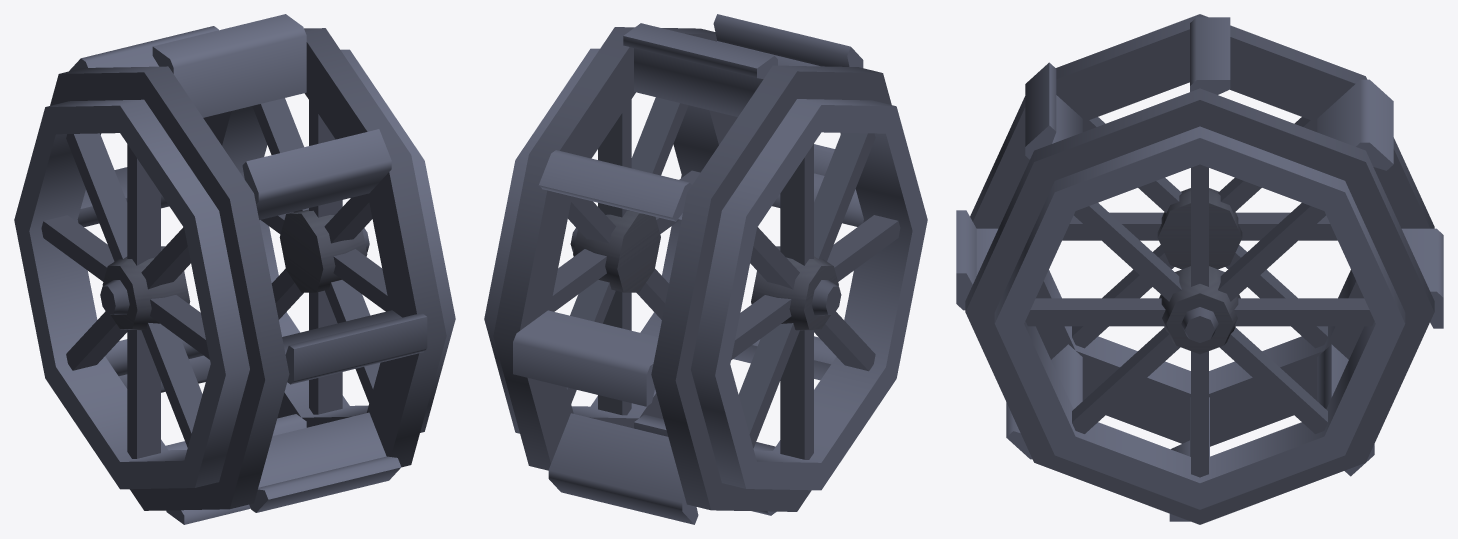
File: watermill-wide.glb
3 renders of one model, left to right at view 1: azimuth 30°, elevation 25°; view 2: azimuth 150°, elevation 25°; view 3: azimuth 270°, elevation 25°, orthographic. The views are drawn at different scales.
Visible parts, largest first — view 1: watermill-wide; view 2: watermill-wide; view 3: watermill-wide.
Boxes of the visible parts, box(x1,y1,x2,y2) form: watermill-wide: box(14, 14, 455, 524); watermill-wide: box(484, 14, 927, 524); watermill-wide: box(956, 14, 1443, 524).
Size of the model in its own units: 1.05 by 1.8 by 1.8.
Materials: 1 (1 with a texture image).
